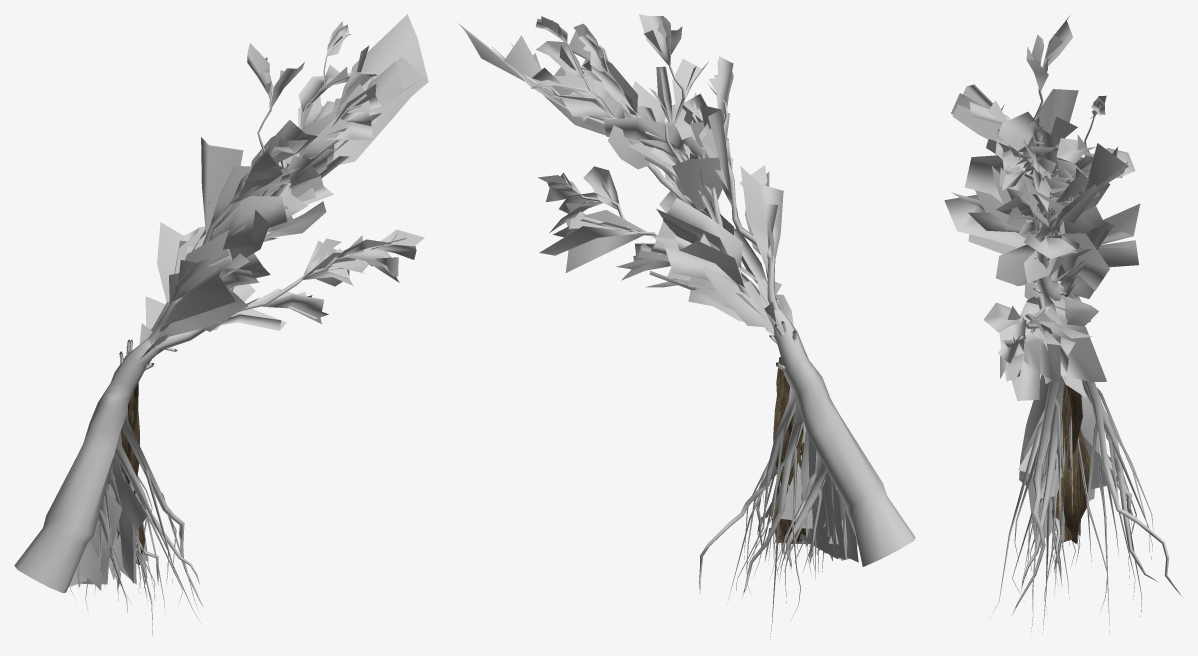
Rendered from Tree_05_2_L3.fbx.
The picture shows the model from 3 angles, left to right: view 1: azimuth 30°, elevation 25°; view 2: azimuth 150°, elevation 25°; view 3: azimuth 270°, elevation 25°; orthographic projection. The views are drawn at different scales.
Parts seen in each view (by area): view 1: polySurface2340; view 2: polySurface2340; view 3: polySurface2340.
Boxes of the visible parts, left/top/right/bottom form: polySurface2340: left=14, top=14, right=428, bottom=634; polySurface2340: left=457, top=14, right=915, bottom=636; polySurface2340: left=944, top=16, right=1182, bottom=637.
Bounding box in the file's own units: 1024 × 1312 × 414.
